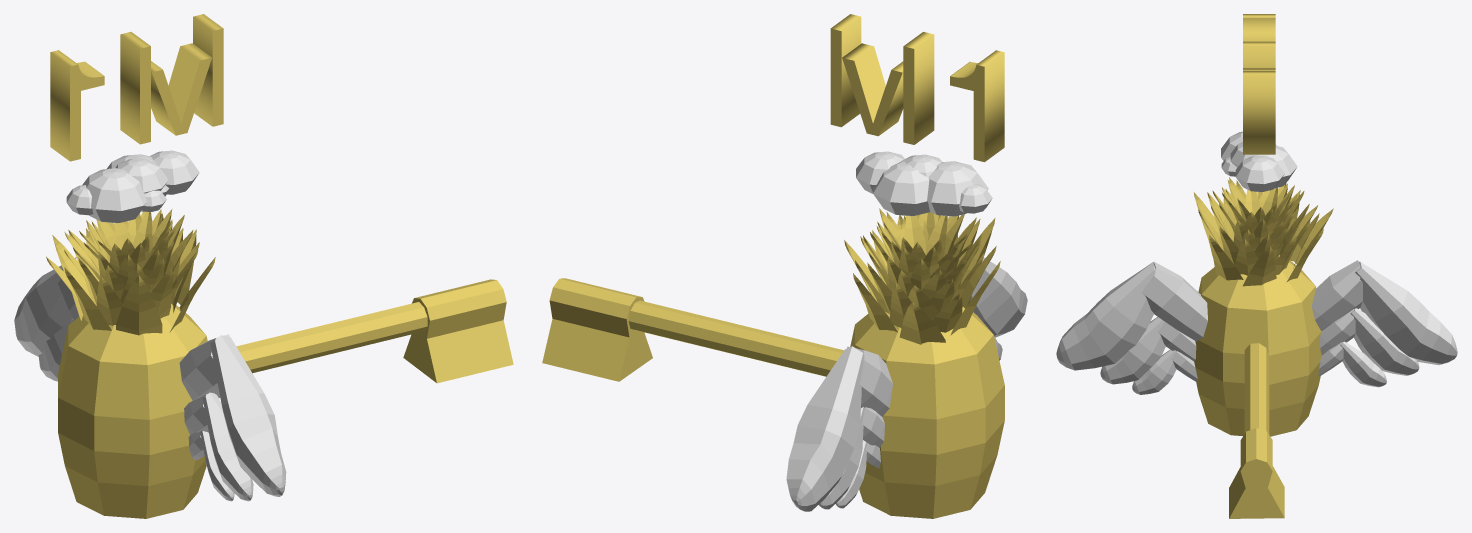
File: key.glb
The picture shows the model from 3 angles, left to right: view 1: azimuth 30°, elevation 25°; view 2: azimuth 150°, elevation 25°; view 3: azimuth 270°, elevation 25°; orthographic projection. The views are drawn at different scales.
Parts seen in each view (by area): view 1: ananasdore.001, Lvl1, Cylinder.004, aile6.001, nuage.001, Cylinder.003, aile.001, aile7.001, aile8.001, aile2.001; view 2: ananasdore.001, Lvl1, aile.001, Cylinder.004, nuage.001, Cylinder.003, aile6.001, aile2.001, aile5.001; view 3: ananasdore.001, aile6.001, aile.001, Lvl1, Cylinder.004, aile2.001, aile7.001, nuage.001, Cylinder.003, aile5.001, aile8.001.
Boxes of the visible parts, x1,y1,x2,y2 form: ananasdore.001: [46, 209, 215, 518]; Lvl1: [50, 14, 223, 161]; Cylinder.004: [403, 279, 513, 383]; aile6.001: [179, 334, 286, 496]; nuage.001: [66, 150, 199, 223]; Cylinder.003: [236, 302, 427, 373]; aile.001: [14, 257, 79, 356]; aile7.001: [184, 392, 253, 501]; aile8.001: [188, 431, 234, 501]; aile2.001: [38, 319, 73, 381]; ananasdore.001: [844, 208, 1004, 518]; Lvl1: [830, 14, 1004, 162]; aile.001: [786, 346, 892, 511]; Cylinder.004: [542, 278, 652, 381]; nuage.001: [856, 151, 992, 216]; Cylinder.003: [628, 300, 843, 376]; aile6.001: [970, 257, 1027, 337]; aile2.001: [819, 407, 884, 509]; aile5.001: [835, 440, 880, 508]; ananasdore.001: [1194, 177, 1333, 436]; aile6.001: [1056, 261, 1207, 370]; aile.001: [1311, 260, 1457, 364]; Lvl1: [1243, 14, 1275, 154]; Cylinder.004: [1229, 428, 1284, 518]; aile2.001: [1320, 308, 1419, 375]; aile7.001: [1100, 317, 1196, 384]; nuage.001: [1221, 131, 1297, 192]; Cylinder.003: [1244, 343, 1269, 434]; aile5.001: [1318, 341, 1386, 387]; aile8.001: [1132, 349, 1197, 394].
Bounding box in the file's own units: 4.74 × 4.79 × 4.57.
